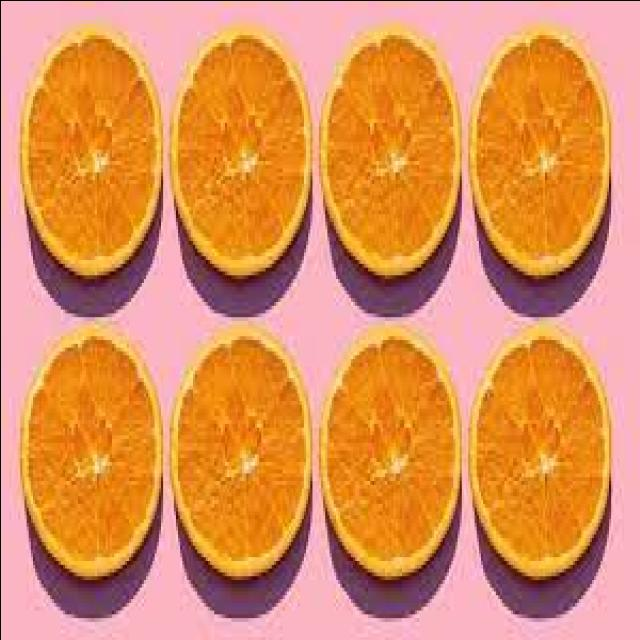orange: (465, 25, 614, 296)
